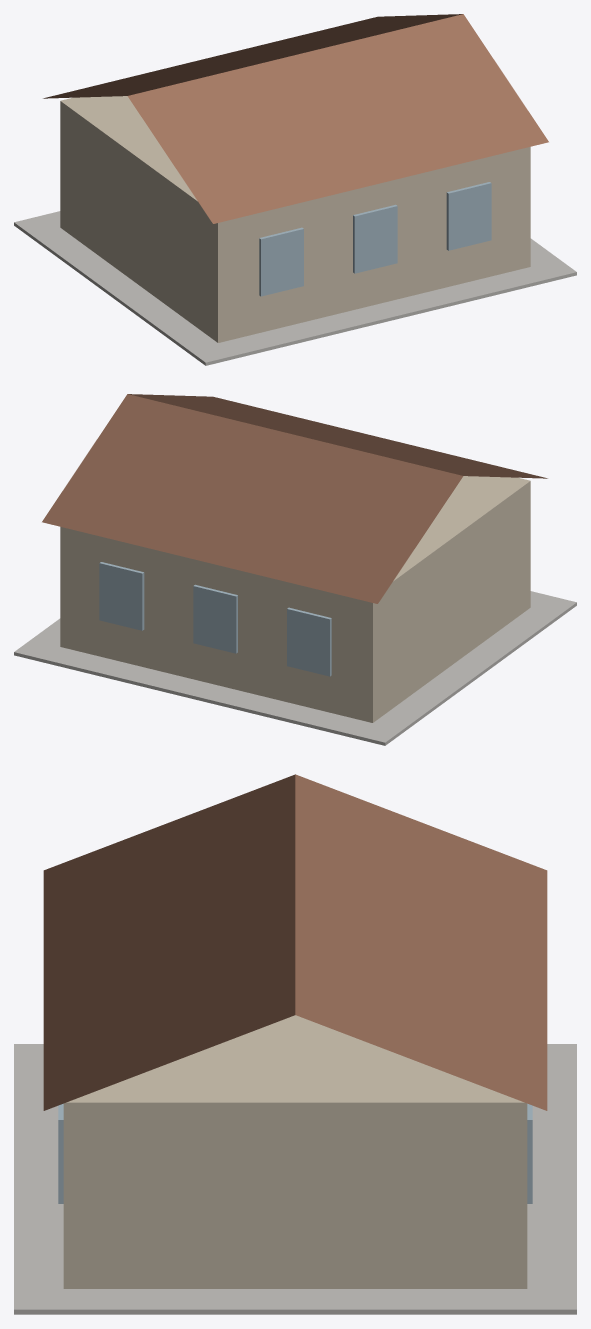
File: cottage-compact.glb
3 renders of one model, top to bottom at view 1: azimuth 30°, elevation 25°; view 2: azimuth 150°, elevation 25°; view 3: azimuth 270°, elevation 25°, orthographic. The views are drawn at different scales.
Visible parts, largest first — view 1: House; view 2: House; view 3: House.
Boxes of the visible parts, <box> form: House: <box>14,14,576,365</box>; House: <box>14,394,576,745</box>; House: <box>14,774,576,1314</box>.
Size of the model in its own units: 9.5 by 4.78 by 8.5.
